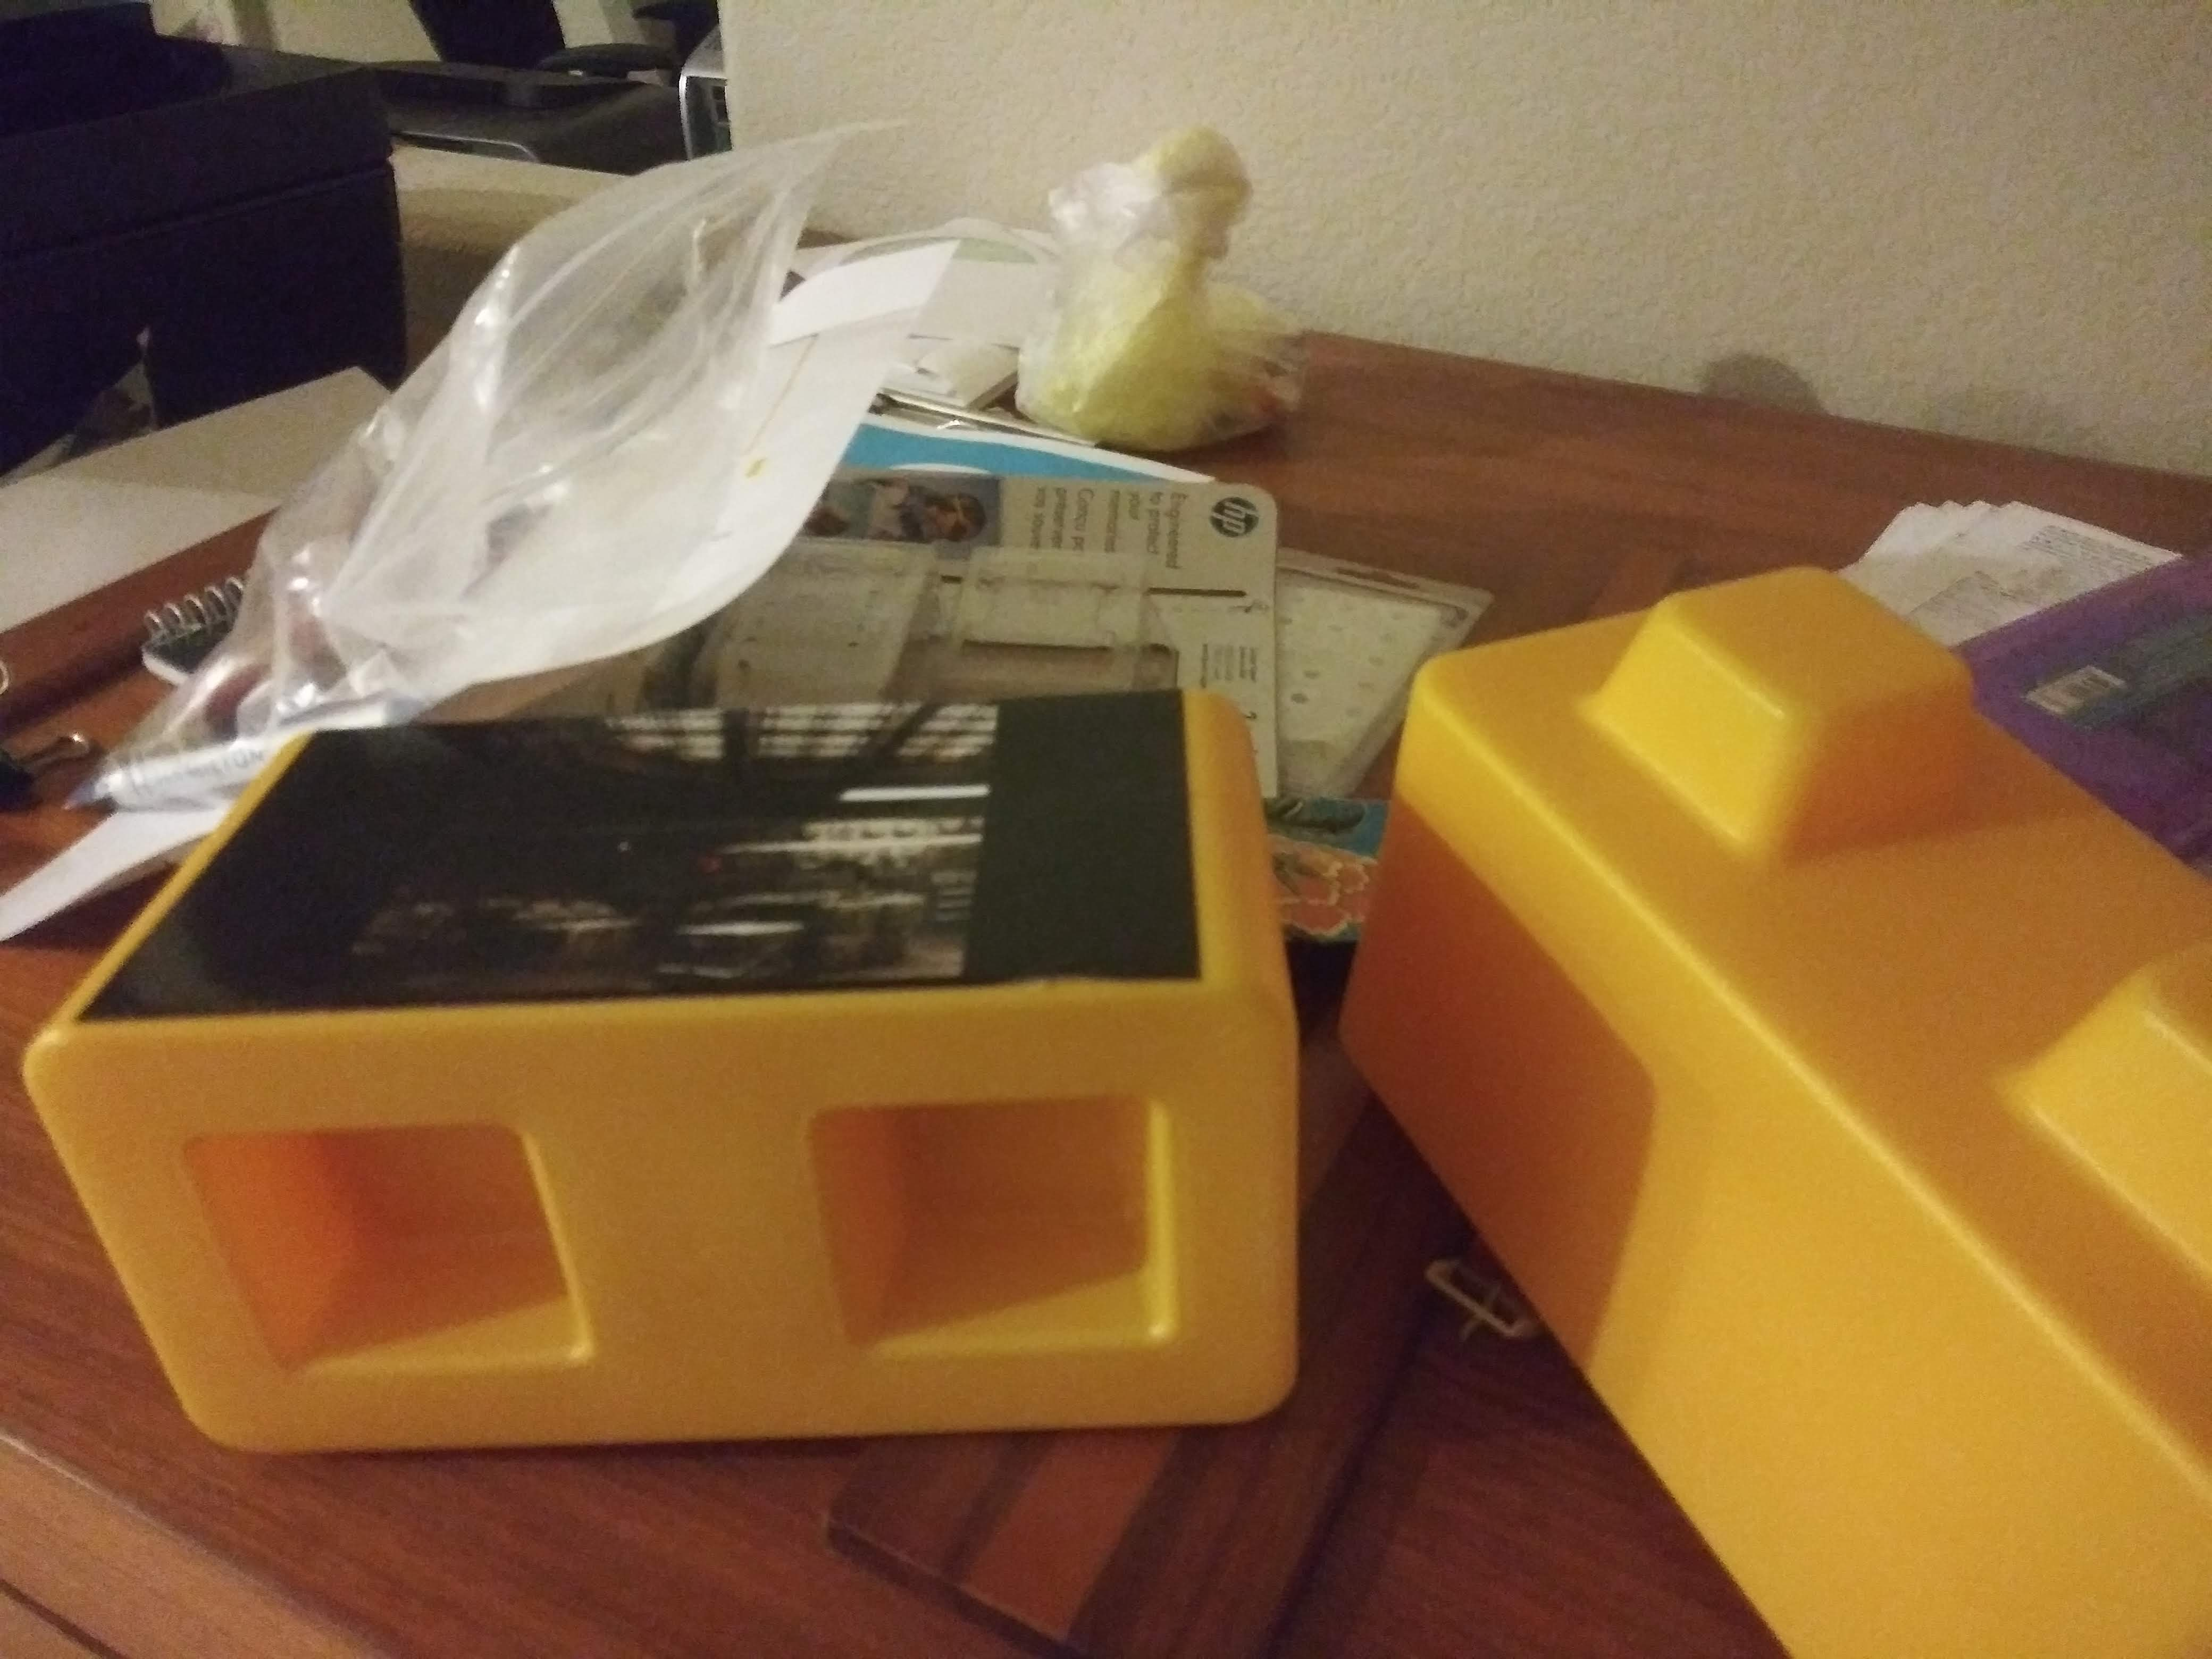skystone: (122, 718, 1273, 1398)
stone: (1386, 619, 2210, 1649)
